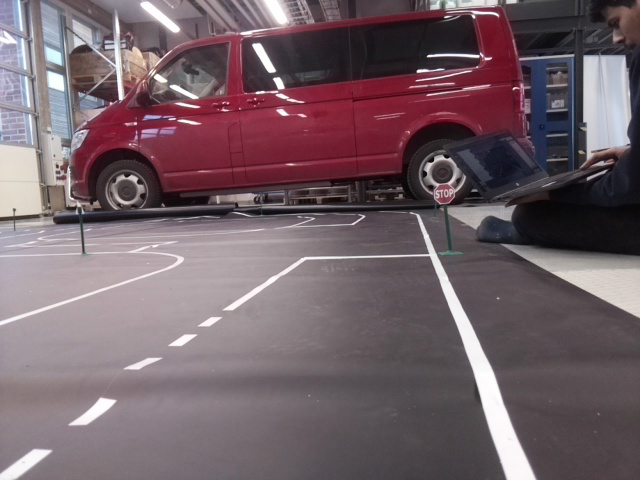Stop: (433, 182, 454, 203)
